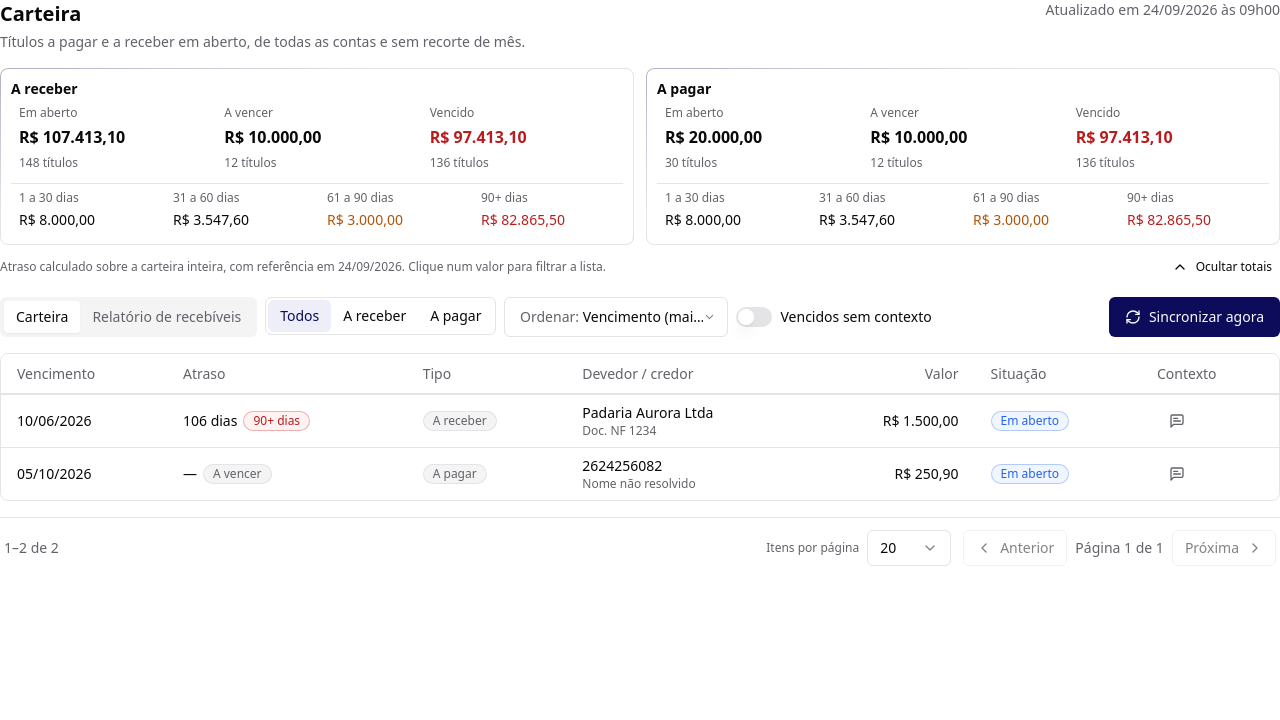
ClientTitlesScreen — lista › o botão da coluna Contexto não abre a gaveta duas vezes
Click the button named "Contexto do título 4010": (1177, 420) [1157,404,1197,436]
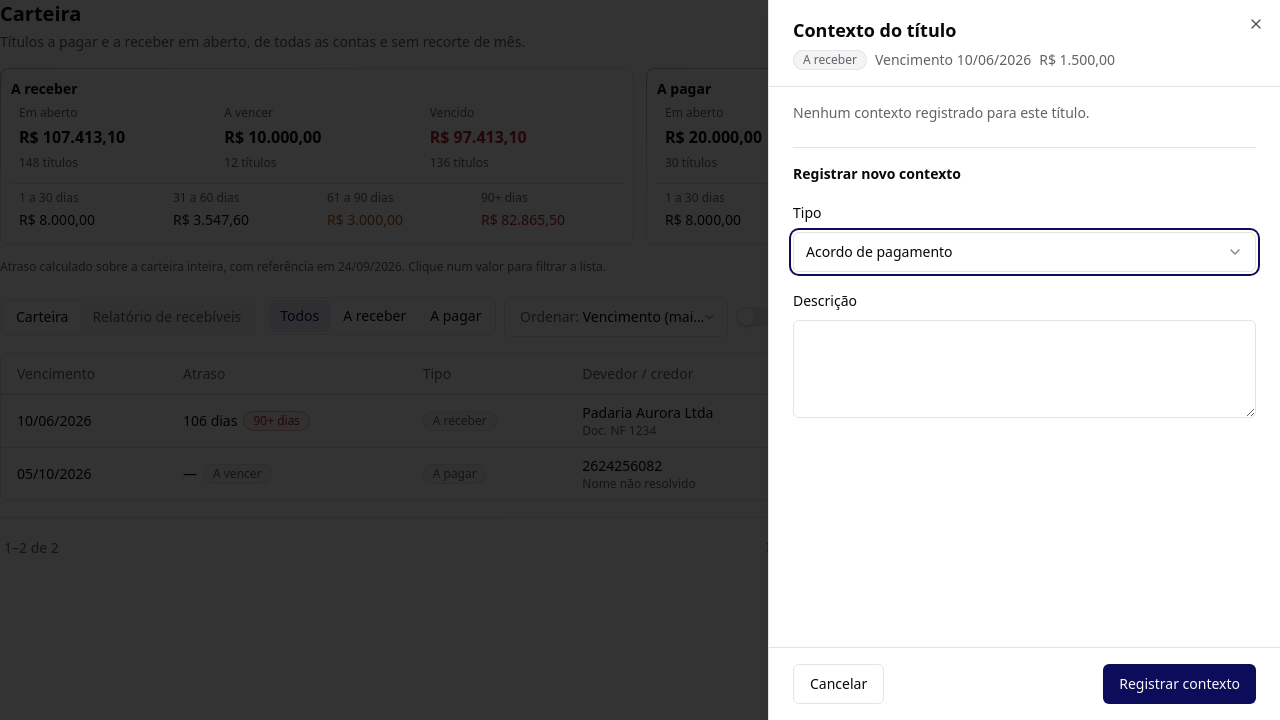
Expected: the number of dialogs is 1, [768,0,1279,719]
